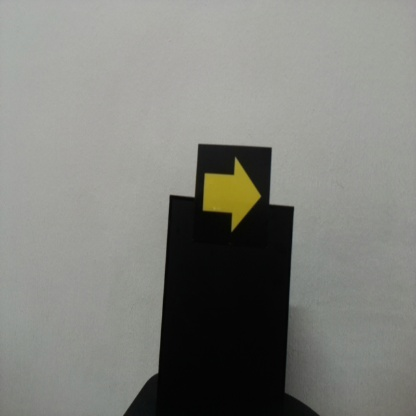id_3: (199, 146, 270, 240)
